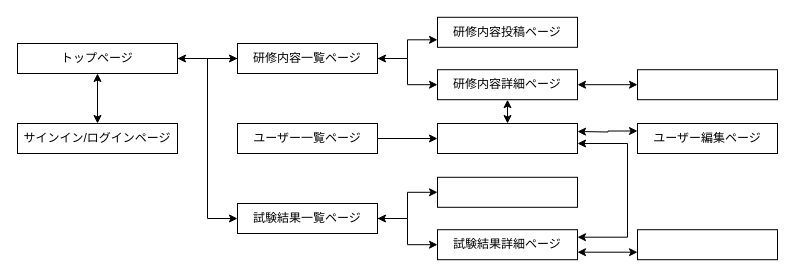
Some shapes in this 795 by 279 pixel diagram are drawn without their labels. The shapes that lost their labels are listed below. From the top down, each one's centre as x and y in pixels, then its label:
At pixel 707 84: "研修内容編集ページ".
At pixel 507 138: "マイページ".
At pixel 507 191: "試験結果投稿ページ".
At pixel 707 244: "試験結果編集ページ".
